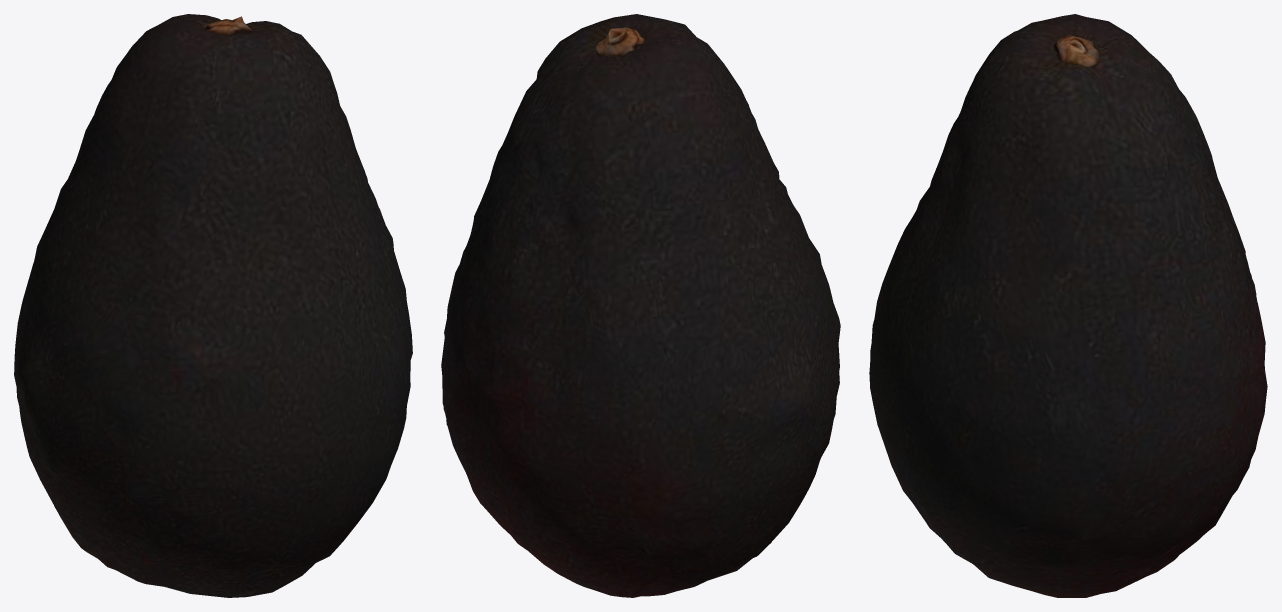
Rendered from avocado.glb.
3 renders of one model, left to right at view 1: azimuth 30°, elevation 25°; view 2: azimuth 150°, elevation 25°; view 3: azimuth 270°, elevation 25°, orthographic. The views are drawn at different scales.
Parts seen in each view (by area): view 1: avocado; view 2: avocado; view 3: avocado.
Boxes of the visible parts, x1,y1,x2,y2 form: avocado: (14,14,412,597); avocado: (441,14,840,597); avocado: (869,14,1267,597).
Size of the model in its own units: 0.095 by 0.1432 by 0.0946.
Materials: 1 (1 with a texture image).
